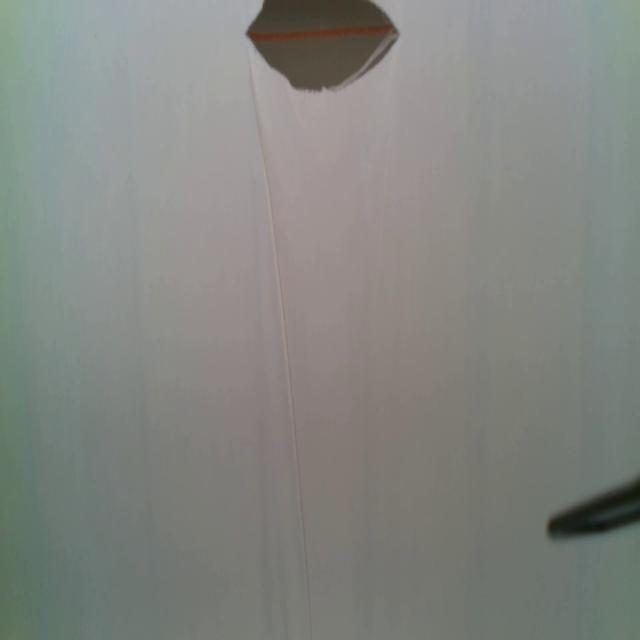crease: (254, 115, 312, 640)
hole: (244, 0, 402, 95)
